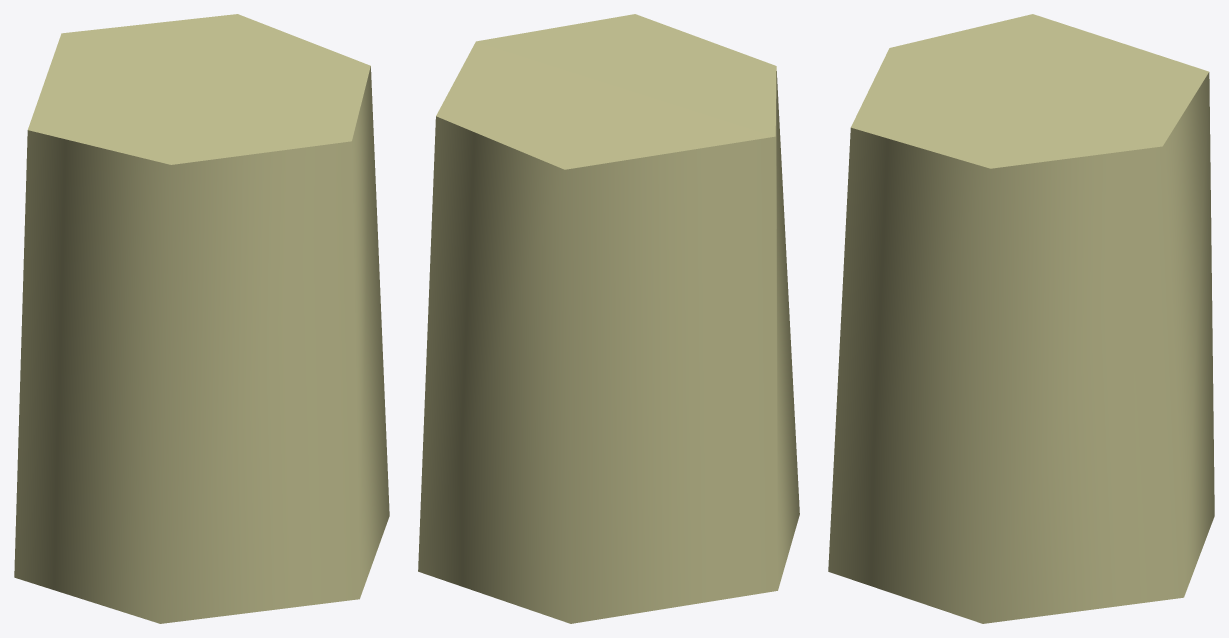
Rendered from Prop_Sm_Candle_1.fbx.
3 renders of one model, left to right at view 1: azimuth 30°, elevation 25°; view 2: azimuth 150°, elevation 25°; view 3: azimuth 270°, elevation 25°, orthographic.
Visible parts, largest first — view 1: Candle_1_low_Mesh; view 2: Candle_1_low_Mesh; view 3: Candle_1_low_Mesh.
Boxes of the visible parts, x1,y1,x2,y2 form: Candle_1_low_Mesh: [14, 14, 389, 623]; Candle_1_low_Mesh: [418, 14, 799, 623]; Candle_1_low_Mesh: [828, 14, 1214, 623].
Size of the model in its own units: 0.1879 by 0.2352 by 0.1837.
